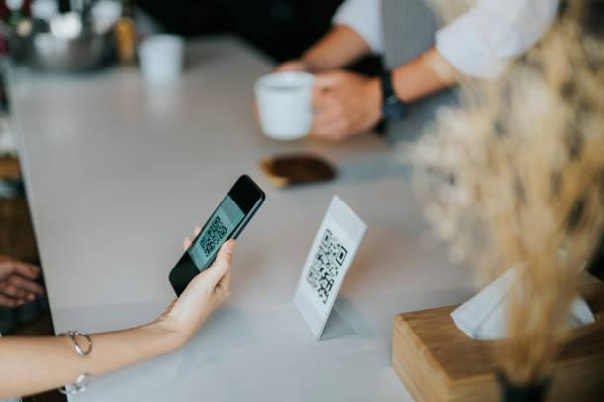code: (305, 228, 348, 304), (199, 216, 227, 258)
